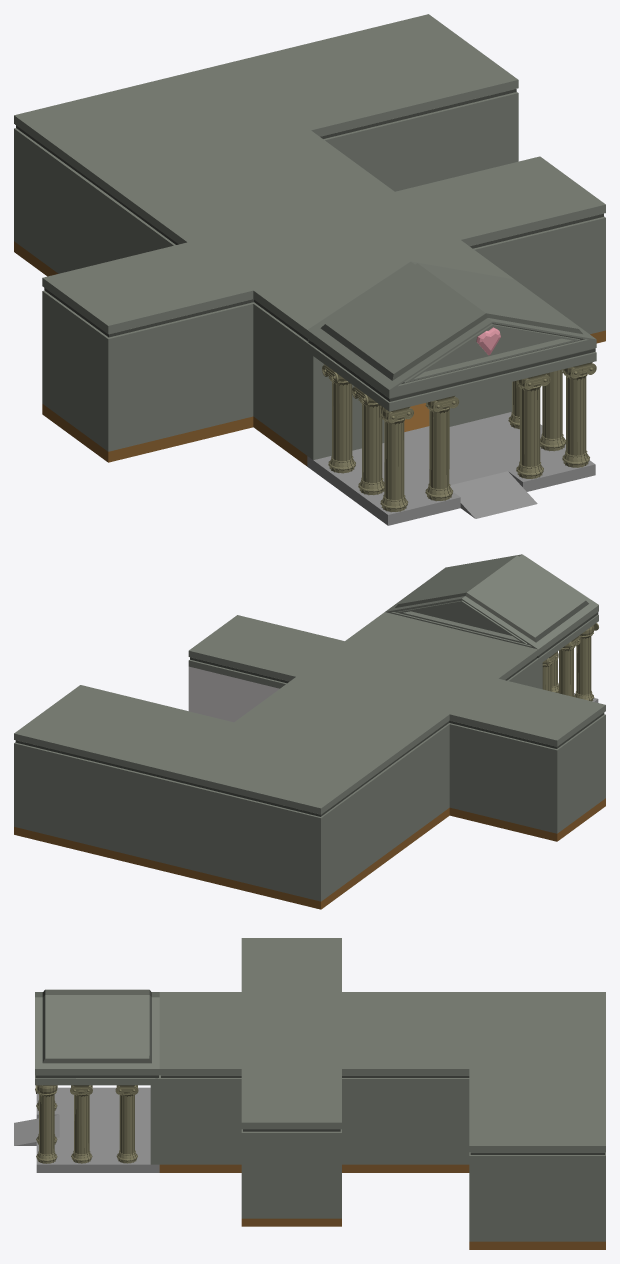
File: The Building.glb
The picture shows the model from 3 angles, top to bottom: view 1: azimuth 30°, elevation 25°; view 2: azimuth 150°, elevation 25°; view 3: azimuth 270°, elevation 25°; orthographic projection. The views are drawn at different scales.
Visible parts, largest first — view 1: Roof, Walls, Front Entrance, Column, Floor, Column_Supports, Slop_Entrance; view 2: Roof, Walls, Front Entrance, Floor, Column; view 3: Roof, Walls, Front Entrance, Floor, Column, Slop_Entrance, Column_Supports.
Boxes of the visible parts, bbox=[...] form: Roof: bbox=[14, 14, 605, 350]; Walls: bbox=[14, 101, 605, 455]; Front Entrance: bbox=[307, 261, 596, 459]; Column: bbox=[322, 362, 596, 512]; Floor: bbox=[14, 241, 605, 514]; Column_Supports: bbox=[373, 458, 595, 525]; Slop_Entrance: bbox=[450, 471, 537, 518]; Roof: bbox=[14, 612, 605, 823]; Walls: bbox=[14, 665, 605, 901]; Front Entrance: bbox=[385, 554, 598, 689]; Floor: bbox=[14, 798, 605, 909]; Column: bbox=[542, 623, 598, 701]; Roof: bbox=[159, 938, 605, 1162]; Walls: bbox=[159, 1085, 605, 1241]; Front Entrance: bbox=[35, 989, 159, 1164]; Floor: bbox=[59, 1087, 605, 1249]; Column: bbox=[35, 1085, 138, 1163]; Slop_Entrance: bbox=[14, 1114, 59, 1145]; Column_Supports: bbox=[36, 1087, 59, 1172].
Size of the model in its own units: 54 by 16.89 by 65.
